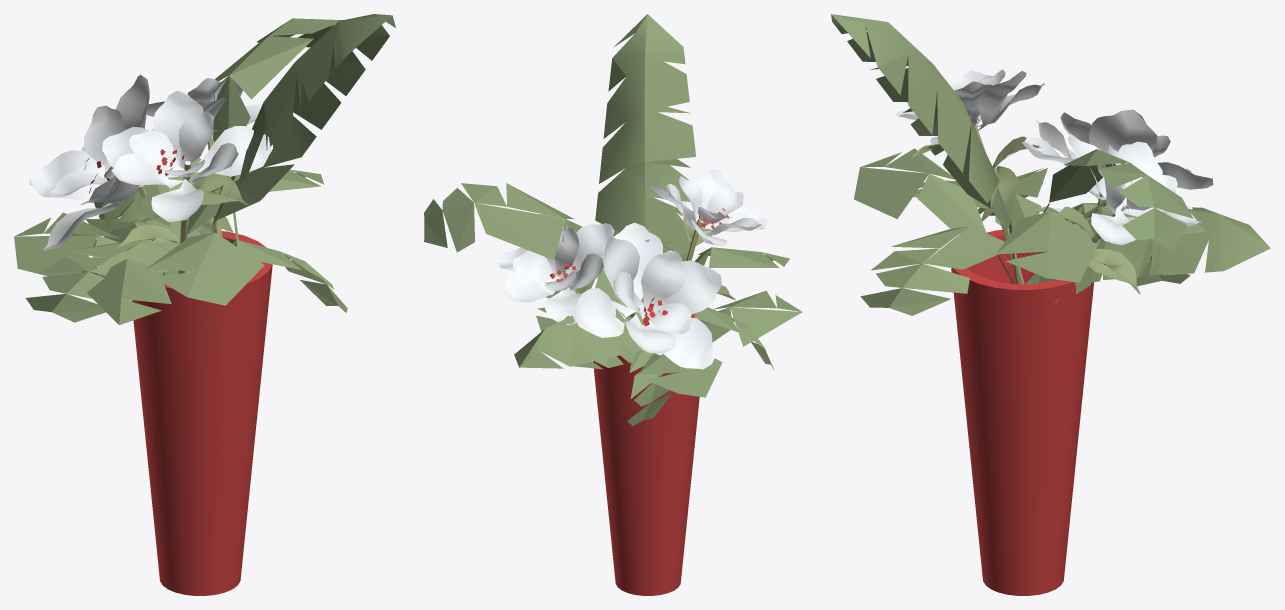
Rendered from jar_19.glb.
The picture shows the model from 3 angles, left to right: view 1: azimuth 30°, elevation 25°; view 2: azimuth 150°, elevation 25°; view 3: azimuth 270°, elevation 25°; orthographic projection. The views are drawn at different scales.
Parts seen in each view (by area): view 1: mesh92_mesh92-geometry, mesh37_mesh37-geometry, mesh44_mesh44-geometry, mesh4_mesh4-geometry, mesh57_mesh57-geometry_7, mesh49_mesh49-geometry, mesh8_mesh8-geometry_4, mesh8_mesh8-geometry_3, mesh52_mesh52-geometry, mesh8_mesh8-geometry_6, mesh68_mesh68-geometry, mesh42_mesh42-geometry (+28 smaller); view 2: mesh92_mesh92-geometry, mesh37_mesh37-geometry, mesh68_mesh68-geometry, mesh6_mesh6-geometry, mesh57_mesh57-geometry_6, mesh57_mesh57-geometry_2, mesh57_mesh57-geometry_3, mesh57_mesh57-geometry_8, mesh2_mesh2-geometry, mesh57_mesh57-geometry_5, mesh57_mesh57-geometry_4, mesh56_mesh56-geometry (+22 smaller); view 3: mesh92_mesh92-geometry, mesh37_mesh37-geometry, mesh68_mesh68-geometry, mesh44_mesh44-geometry, mesh27_mesh27-geometry, mesh43_mesh43-geometry, mesh57_mesh57-geometry_5, mesh35_mesh35-geometry, mesh31_mesh31-geometry, mesh25_mesh25-geometry, mesh1_mesh1-geometry, mesh2_mesh2-geometry (+19 smaller).
Part boxes in pixels (x1,y1,x2,y2): mesh92_mesh92-geometry: (132, 231, 272, 595); mesh37_mesh37-geometry: (212, 14, 395, 232); mesh44_mesh44-geometry: (187, 232, 264, 305); mesh4_mesh4-geometry: (230, 36, 313, 99); mesh57_mesh57-geometry_7: (29, 150, 107, 200); mesh49_mesh49-geometry: (14, 235, 97, 276); mesh8_mesh8-geometry_4: (195, 126, 272, 176); mesh8_mesh8-geometry_3: (153, 90, 203, 165); mesh52_mesh52-geometry: (121, 259, 171, 304); mesh8_mesh8-geometry_6: (151, 178, 203, 222); mesh68_mesh68-geometry: (101, 195, 233, 283); mesh42_mesh42-geometry: (146, 232, 214, 271); mesh92_mesh92-geometry: (593, 313, 699, 595); mesh37_mesh37-geometry: (595, 14, 696, 261); mesh68_mesh68-geometry: (514, 315, 642, 368); mesh6_mesh6-geometry: (474, 202, 564, 259); mesh57_mesh57-geometry_6: (573, 288, 635, 337); mesh57_mesh57-geometry_2: (641, 250, 685, 313); mesh57_mesh57-geometry_3: (639, 260, 721, 314); mesh57_mesh57-geometry_8: (640, 313, 714, 369); mesh2_mesh2-geometry: (442, 188, 474, 252); mesh57_mesh57-geometry_5: (602, 237, 640, 298); mesh57_mesh57-geometry_4: (613, 222, 662, 300); mesh56_mesh56-geometry: (730, 307, 802, 346); mesh92_mesh92-geometry: (951, 229, 1093, 595); mesh37_mesh37-geometry: (831, 14, 1017, 284); mesh68_mesh68-geometry: (1026, 206, 1270, 303); mesh44_mesh44-geometry: (854, 167, 928, 219); mesh27_mesh27-geometry: (1046, 211, 1100, 282); mesh43_mesh43-geometry: (917, 173, 986, 233); mesh57_mesh57-geometry_5: (1088, 109, 1157, 197); mesh35_mesh35-geometry: (923, 226, 1004, 269); mesh31_mesh31-geometry: (876, 263, 969, 293); mesh25_mesh25-geometry: (996, 211, 1050, 254); mesh1_mesh1-geometry: (1122, 207, 1187, 250); mesh2_mesh2-geometry: (1119, 175, 1192, 218).
Size of the model in its own units: 0.485 by 0.7328 by 0.4772.
